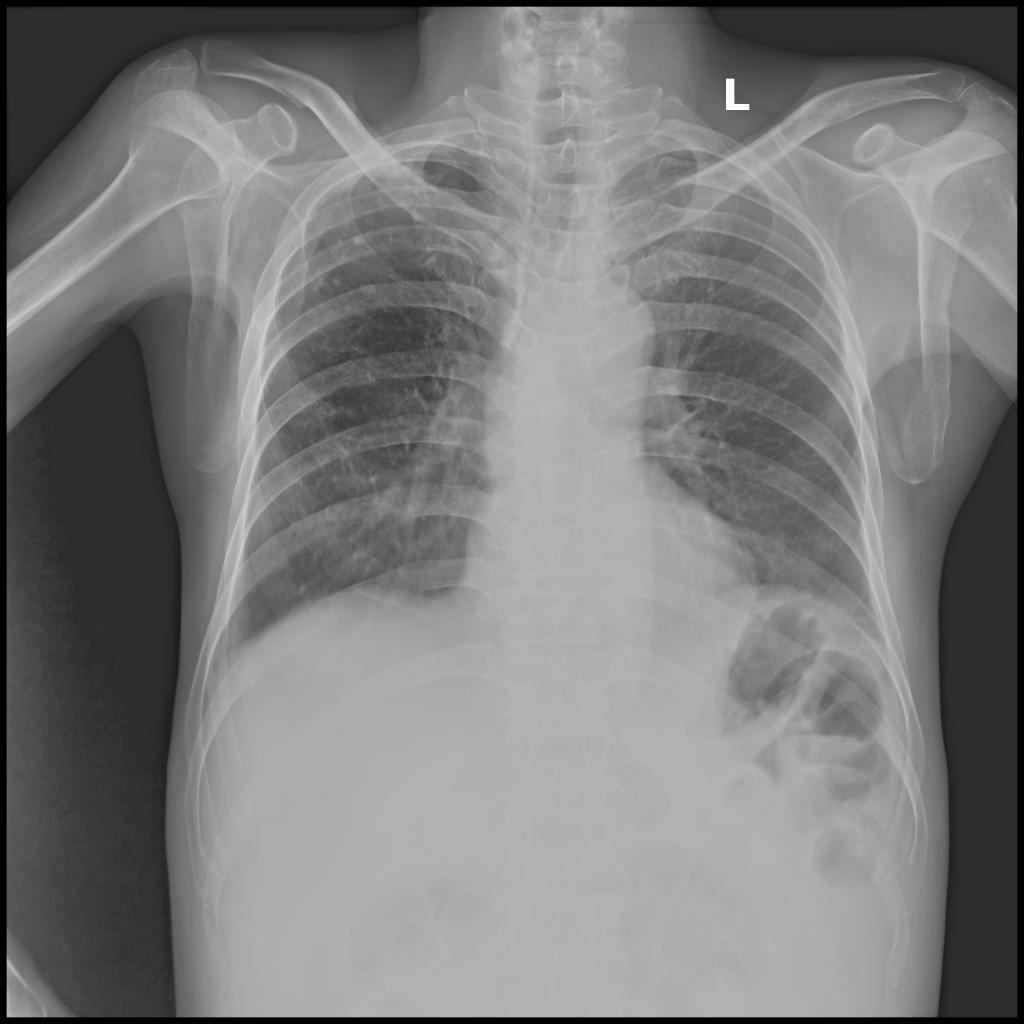Nodule: (358, 283, 376, 296), (353, 234, 368, 245)
